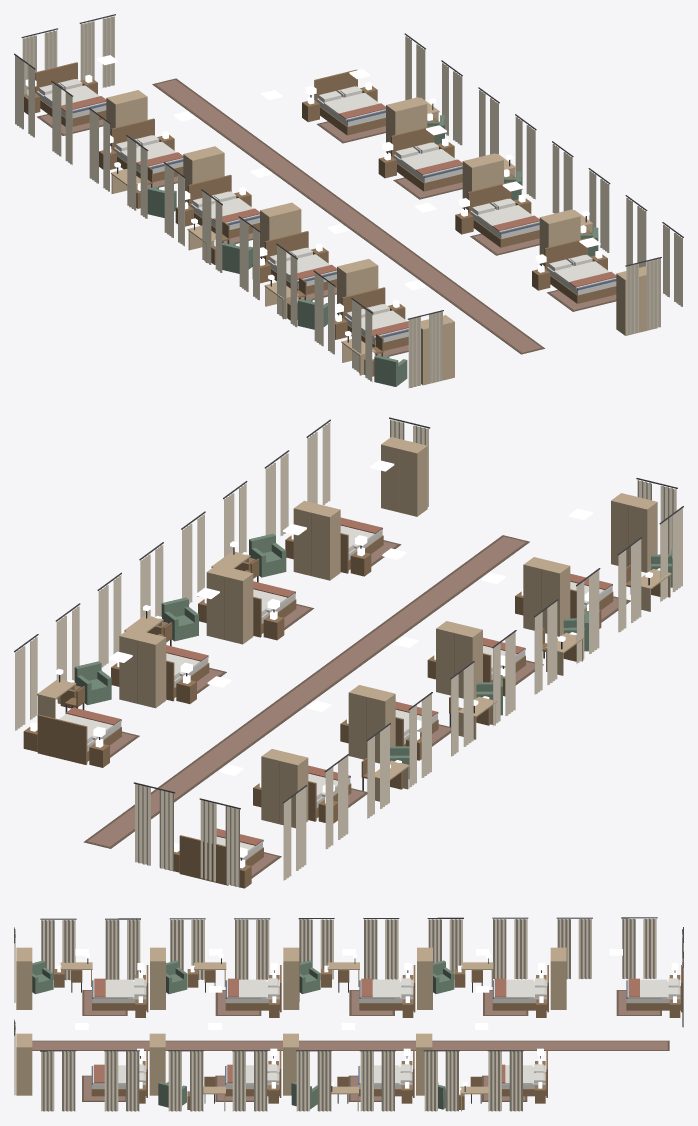
Rendered from fine-s3.glb.
3 views of the same model, one above another, from view 1: azimuth 30°, elevation 25°; view 2: azimuth 150°, elevation 25°; view 3: azimuth 270°, elevation 25° (orthographic). The views are drawn at different scales.
Parts seen in each view (by area): view 1: soft-s3, bed-frame.020, bed-frame.021, bed-frame.018, bed-frame.019, bed-frame.022, dresser.019, dresser.020, bed-frame.023, dresser.018, dresser.024, dresser.025 (+11 smaller); view 2: soft-s3, dresser.018, dresser.019, dresser.020, dresser.021, dresser.025, dresser.022, dresser.026, dresser.024, dresser.023, bed-frame.018, bed-frame.022 (+7 smaller); view 3: soft-s3, dresser.021, dresser.022, dresser.024, dresser.026, dresser.023, dresser.025, dresser.020, dresser.019, bed-frame.026, bed-frame.024, bed-frame.025 (+15 smaller).
Part boxes in pixels (x1,y1,x2,y2): soft-s3: (14, 14, 683, 388); bed-frame.020: (467, 182, 539, 247); bed-frame.021: (544, 238, 616, 303); bed-frame.018: (314, 69, 385, 135); bed-frame.019: (391, 125, 462, 191); bed-frame.022: (35, 62, 106, 126); dresser.019: (462, 153, 503, 209); dresser.020: (539, 209, 580, 265); bed-frame.023: (111, 118, 183, 182); dresser.018: (386, 97, 427, 153); dresser.024: (260, 202, 301, 258); dresser.025: (337, 259, 378, 314); soft-s3: (14, 417, 683, 887); dresser.018: (119, 628, 166, 708); dresser.019: (206, 564, 253, 644); dresser.020: (293, 500, 340, 580); dresser.021: (381, 437, 427, 516); dresser.025: (523, 557, 570, 636); dresser.022: (261, 749, 308, 828); dresser.026: (611, 493, 657, 572); dresser.024: (436, 621, 482, 699); dresser.023: (348, 685, 395, 763); bed-frame.018: (37, 714, 121, 764); bed-frame.022: (179, 835, 263, 885); soft-s3: (14, 917, 683, 1111); dresser.021: (16, 1033, 32, 1095); dresser.022: (550, 947, 566, 1009); dresser.024: (283, 947, 299, 1009); dresser.026: (16, 947, 32, 1009); dresser.023: (417, 947, 432, 1009); dresser.025: (150, 947, 165, 1009); dresser.020: (149, 1033, 165, 1095); dresser.019: (283, 1033, 298, 1095); bed-frame.026: (92, 965, 148, 1012); bed-frame.024: (359, 965, 415, 1012); bed-frame.025: (225, 965, 281, 1012).
Bounding box in the file's own units: 11.79 × 2.56 × 25.03.
